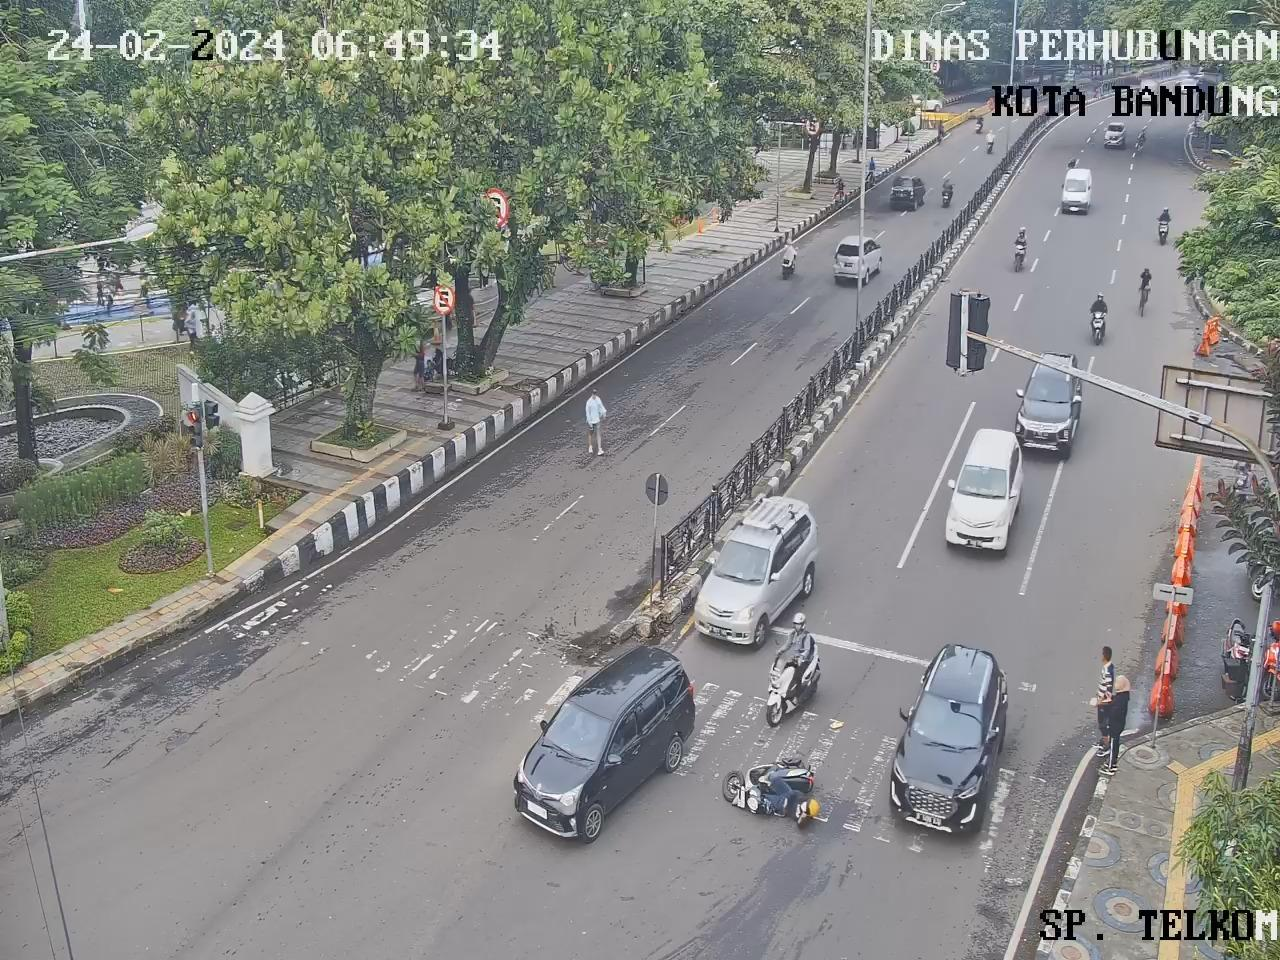accident: (758, 772, 820, 830)
